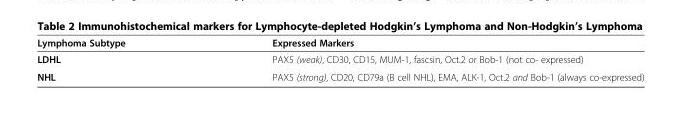table: (36, 36, 643, 82)
table column: (198, 36, 643, 82), (36, 36, 198, 82)
table column header: (36, 36, 643, 50)
table row: (36, 50, 643, 67), (36, 67, 643, 82), (36, 36, 643, 50)
